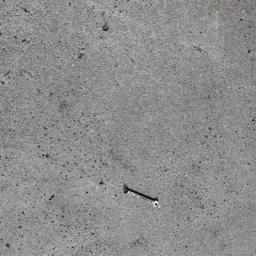FOD: (123, 184, 162, 210)
